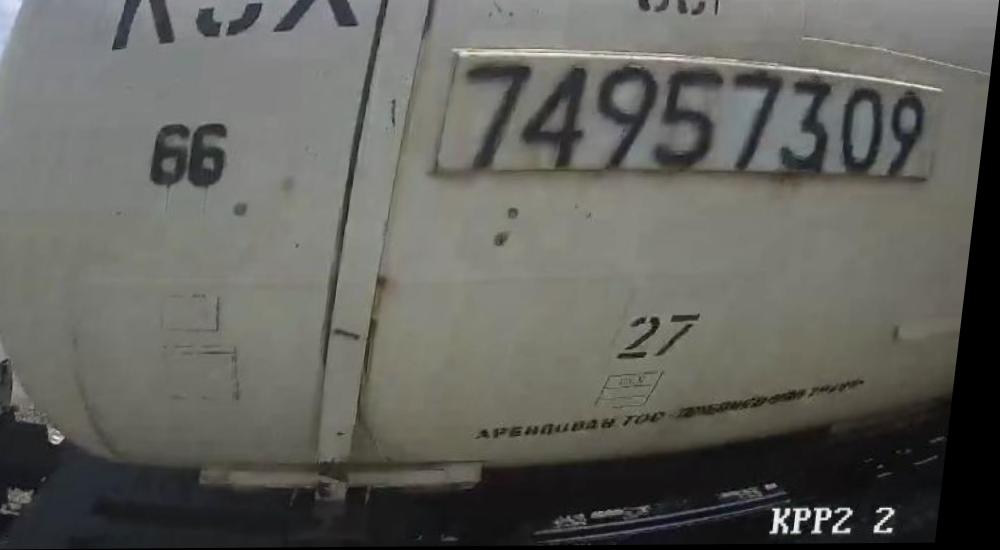Wagon-number: (451, 50, 941, 189)
